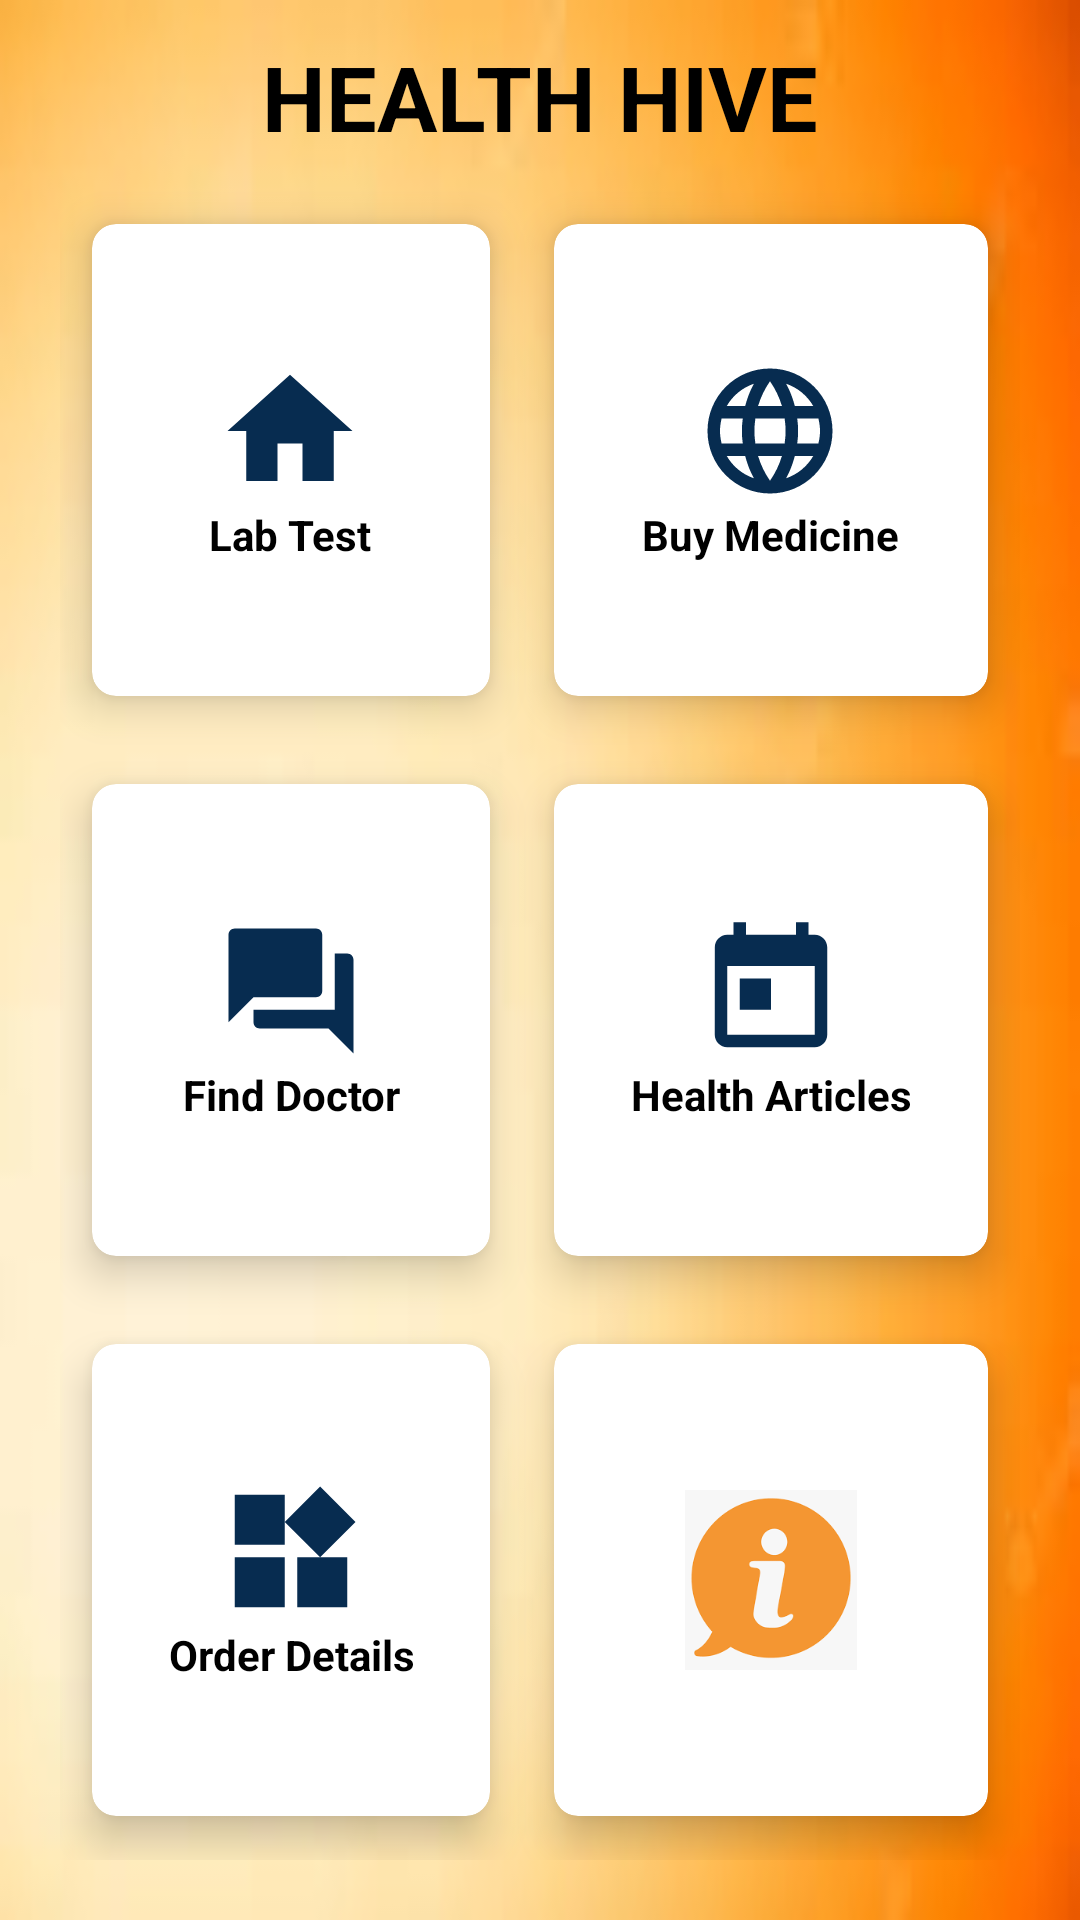

Icons on this 1080*1920 Android screen, each with the point to tap as point (x, y):
calendar: point (771, 985)
chat: point (291, 991)
home: point (290, 428)
info: point (771, 1578)
language: point (770, 431)
widgets: point (295, 1547)
